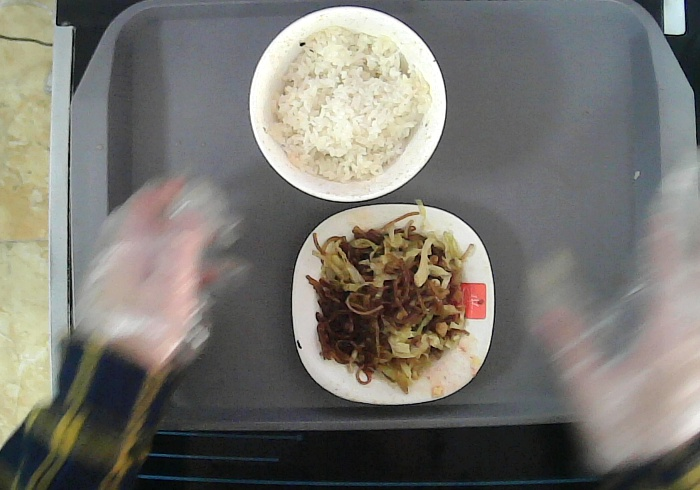SHKJ-Bai_Se_Si_Fang_Cai_Die: (289, 202, 497, 407)
SHKJ-Fan_Wan: (246, 3, 448, 202)
